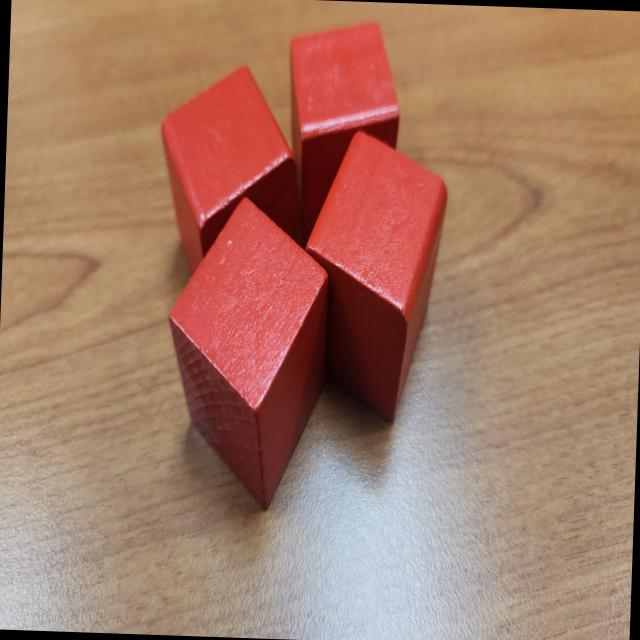red: (160, 193, 334, 515), (298, 129, 450, 425), (154, 62, 312, 280), (282, 16, 403, 248)
